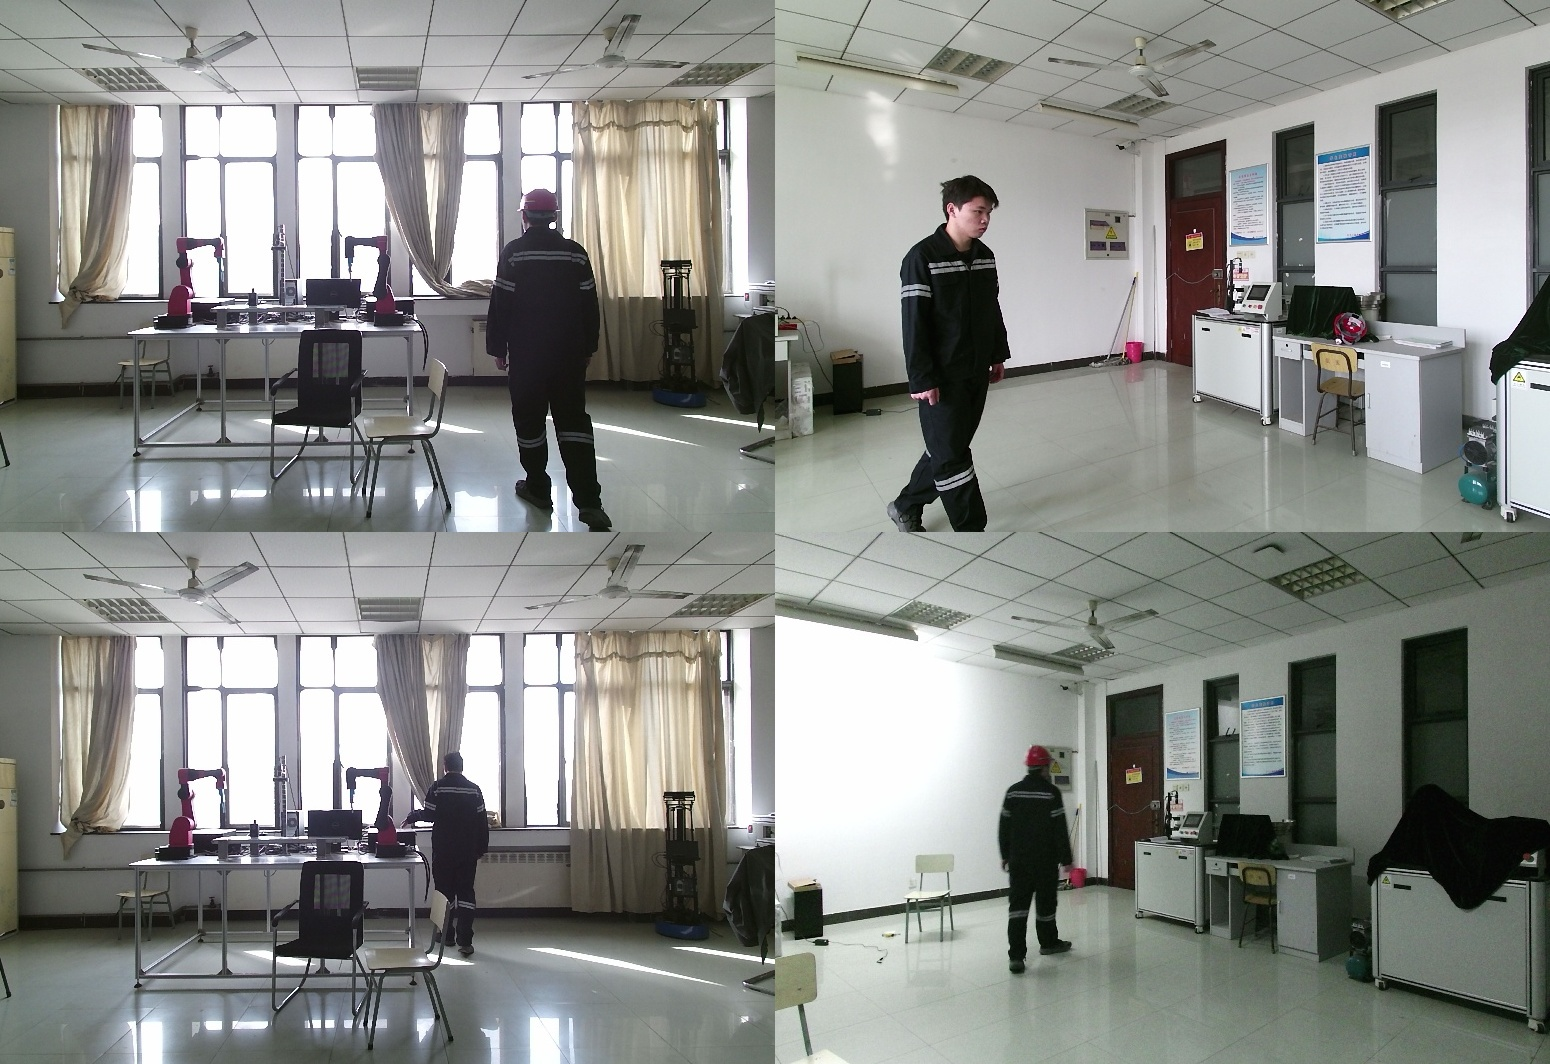person: (885, 175, 1016, 532), (489, 188, 618, 532), (404, 749, 496, 966), (987, 747, 1070, 976)
